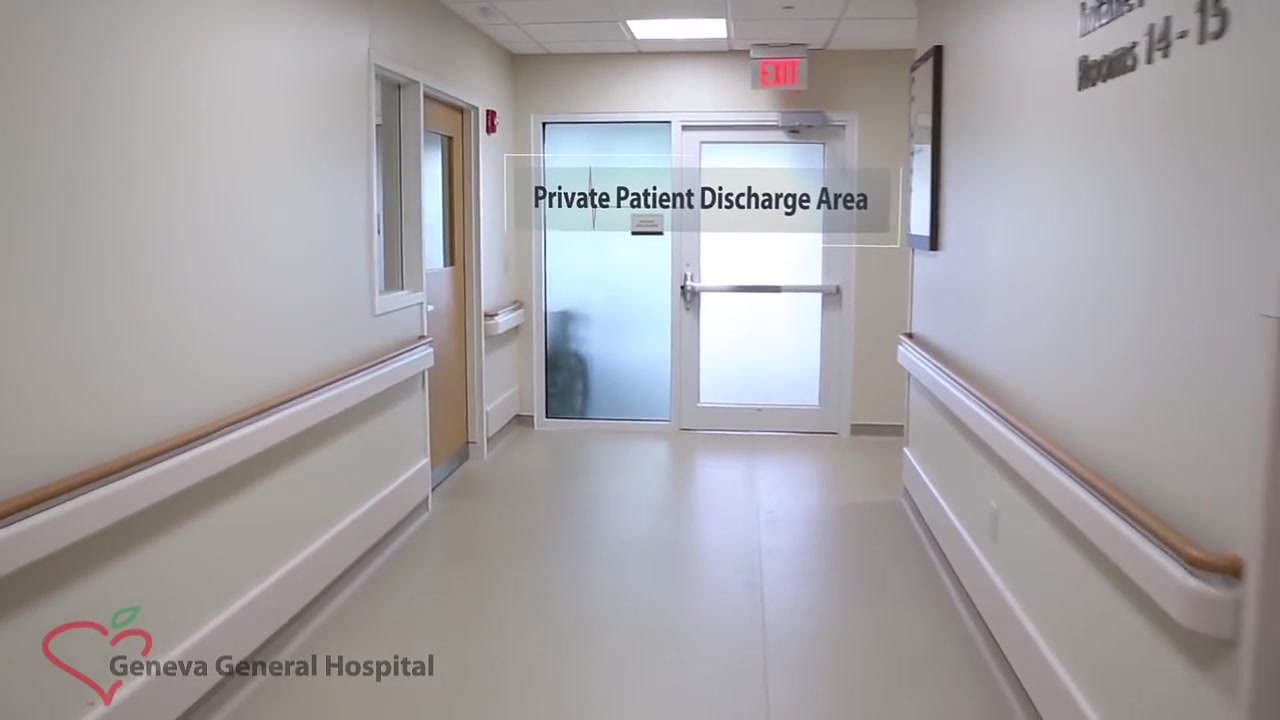door_handle: (426, 301, 438, 314)
hallway_assist_bar: (896, 331, 1244, 581), (1, 331, 432, 527), (482, 296, 534, 333)
push_latch: (680, 270, 839, 309)
